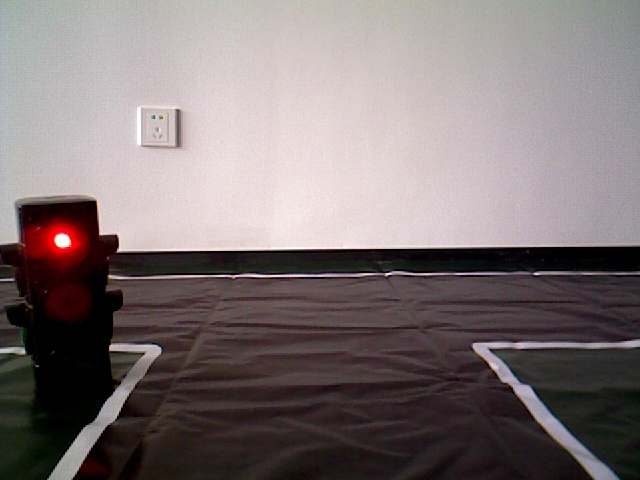red: (18, 206, 115, 387)
